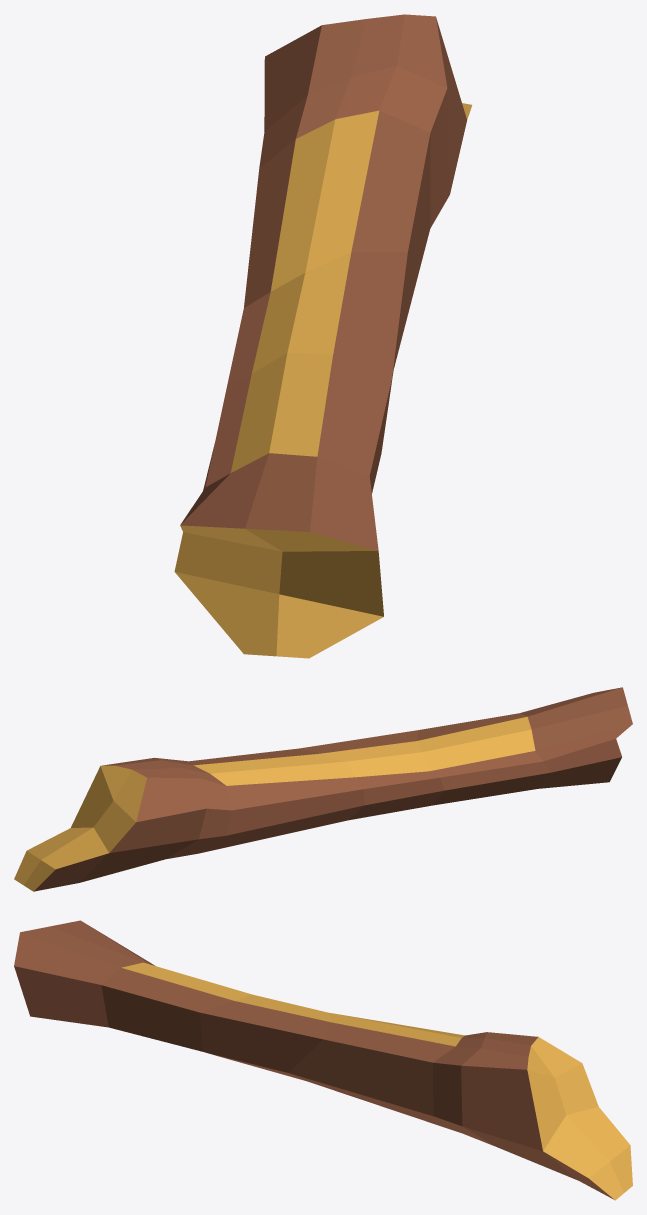
The model's file is log_3.fbx.
3 views of the same model, one above another, from view 1: azimuth 30°, elevation 25°; view 2: azimuth 150°, elevation 25°; view 3: azimuth 270°, elevation 25° (orthographic). The views are drawn at different scales.
Parts seen in each view (by area): view 1: log_3; view 2: log_3; view 3: log_3.
Boxes of the visible parts, x1,y1,x2,y2 form: log_3: (174, 14, 472, 658); log_3: (14, 687, 632, 891); log_3: (14, 920, 632, 1200).
Size of the model in its own units: 347 by 89.02 by 447.
